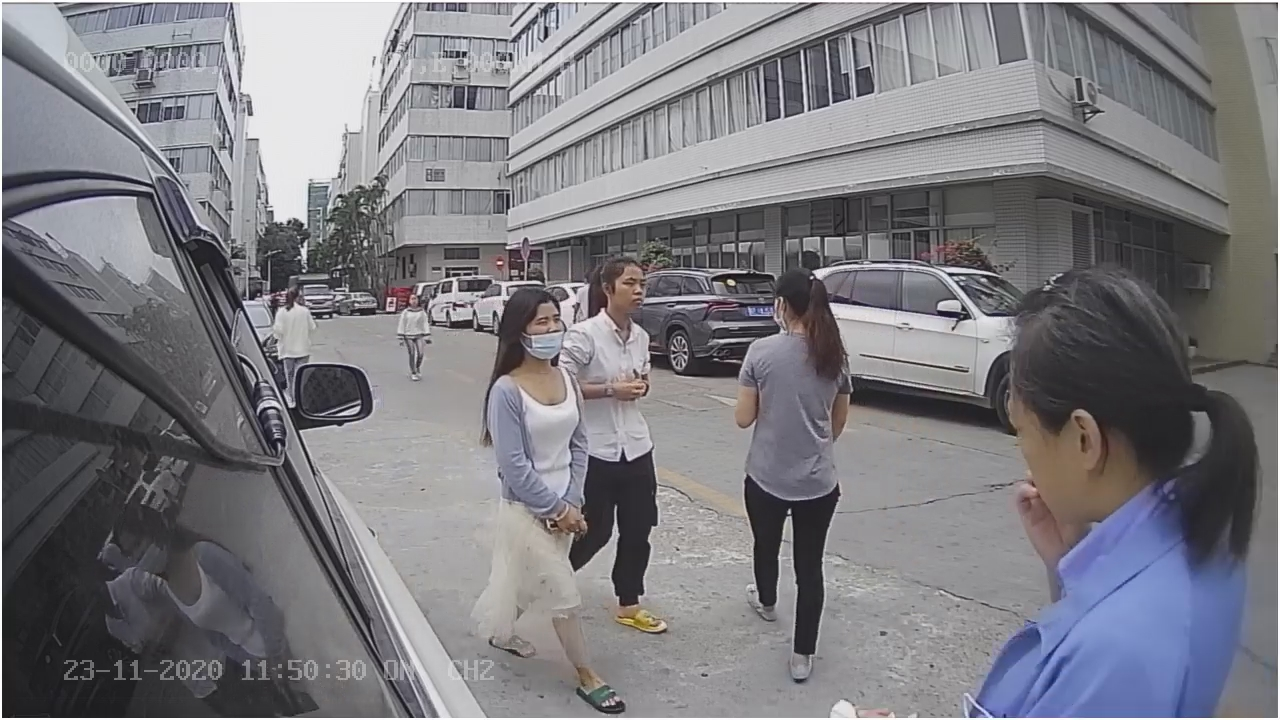person: (477, 290, 625, 712), (727, 266, 853, 683)
